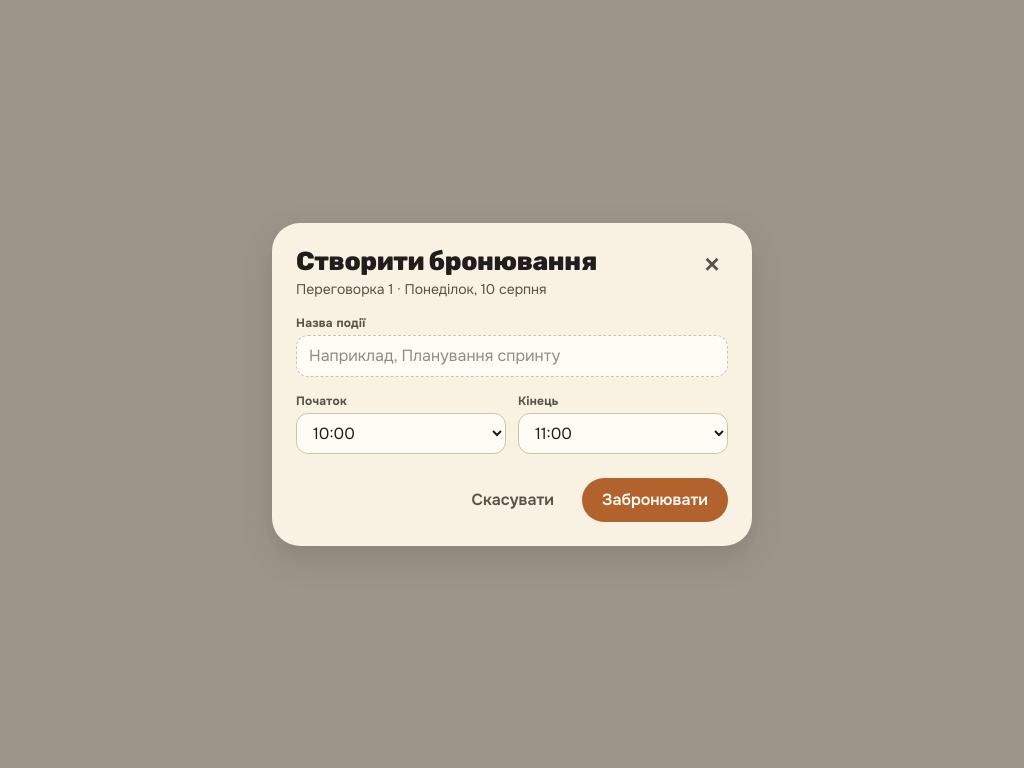
CreateBookingModal › shows client error when submitting empty title
This screenshot has width=1024, height=768.
Click the button "Забронювати": (655, 500) [582, 478, 728, 522]
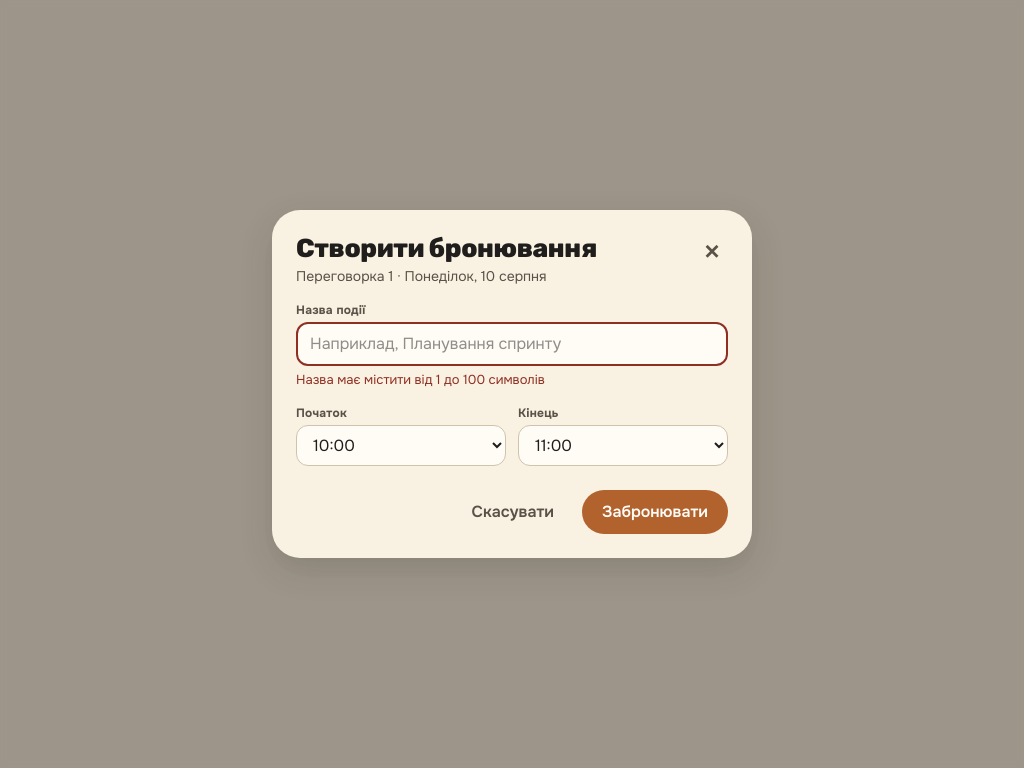
Check: the message "Назва має містити від 1 до 100 символів" is shown, box [296, 371, 545, 388]
